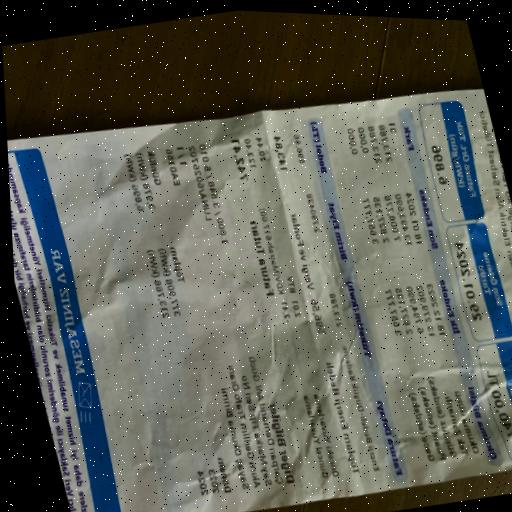electricity-bill: (7, 89, 512, 512)
